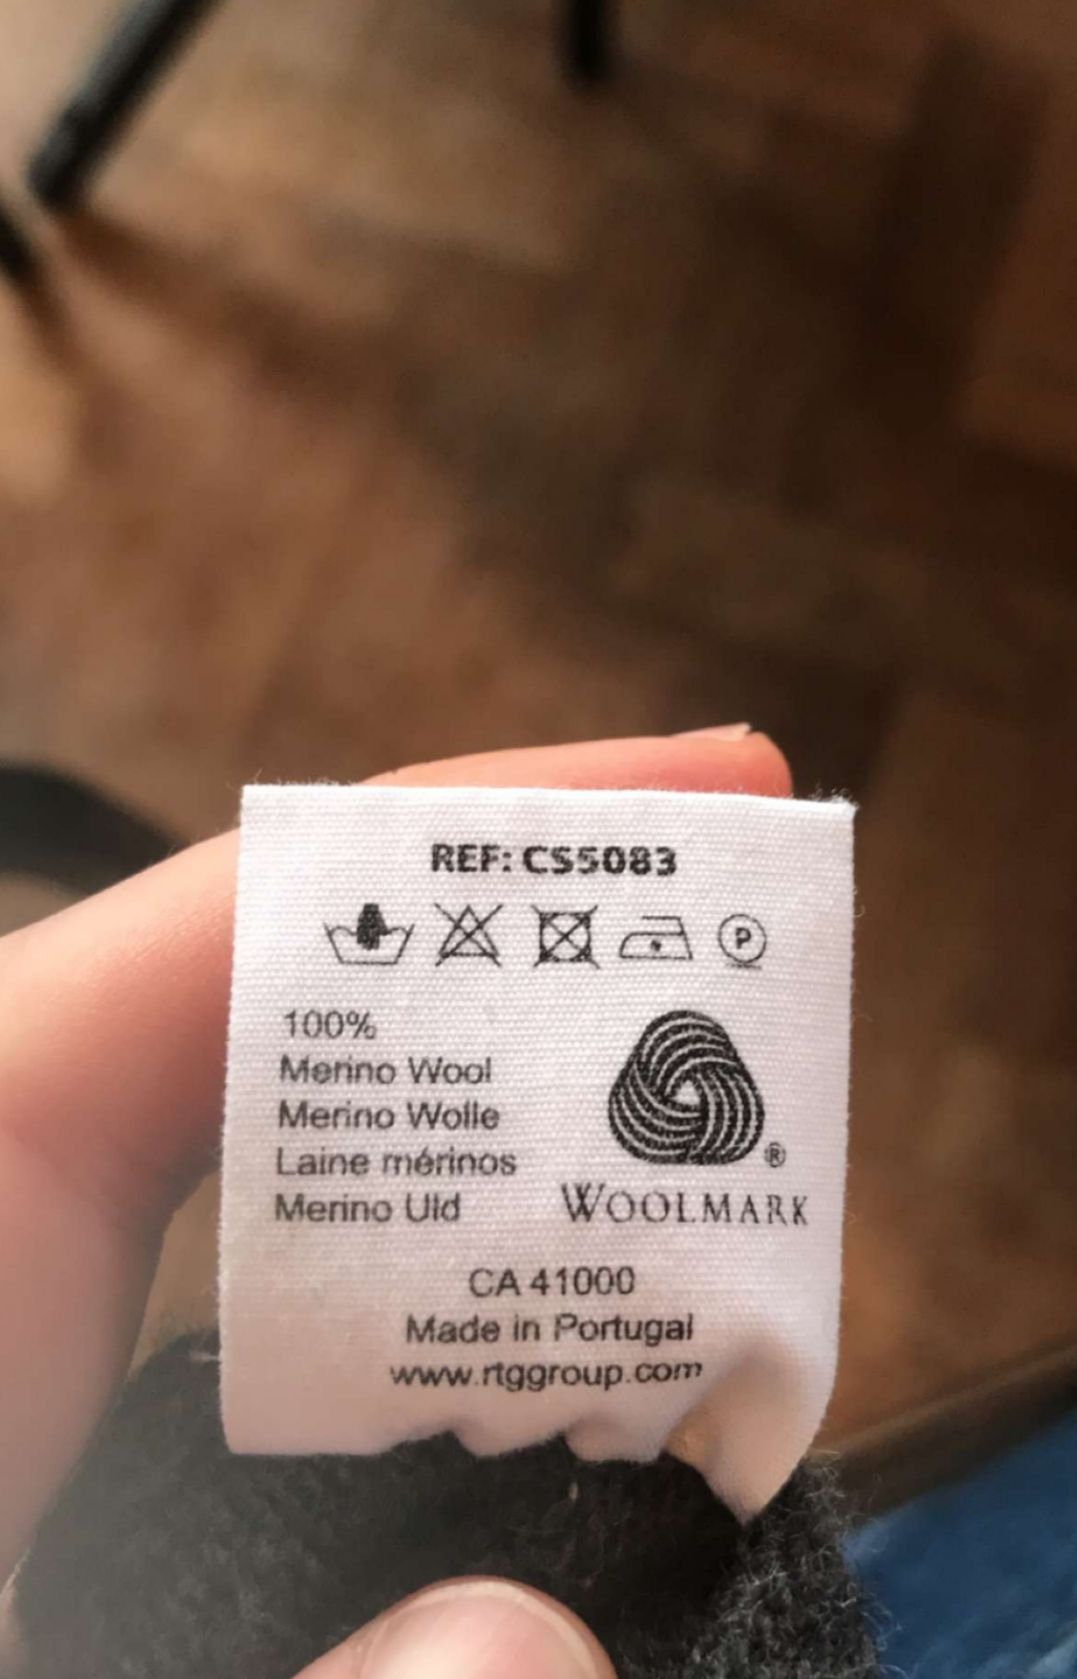do not bleach: (431, 884, 524, 988)
do not tumble dry: (521, 899, 608, 984)
dry clean: (709, 901, 800, 989)
handwash: (293, 891, 434, 981)
iron low temp: (620, 903, 709, 988)
